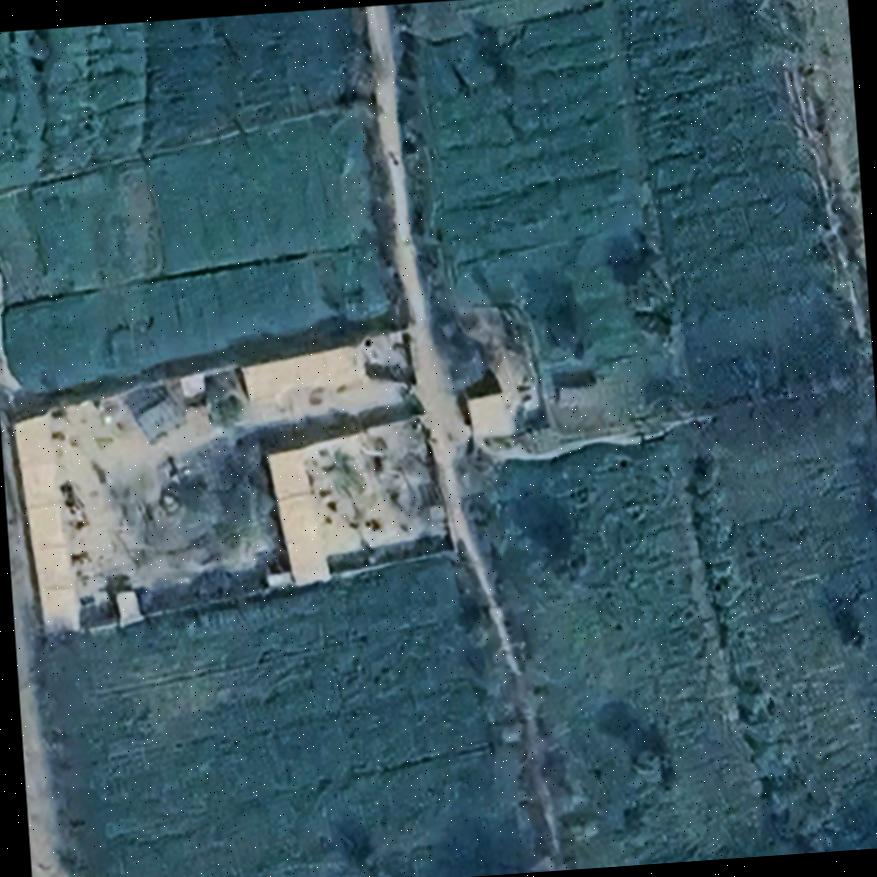Solarpanel: (130, 385, 190, 442), (555, 379, 603, 407)
